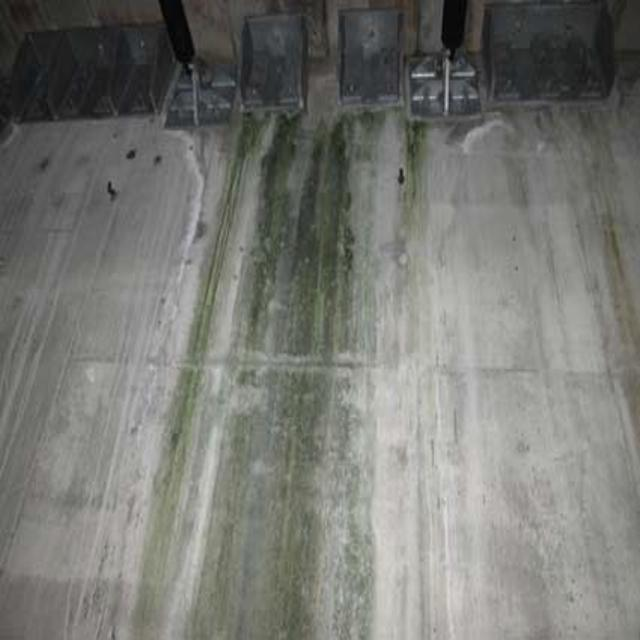leakage: (185, 113, 388, 640)
